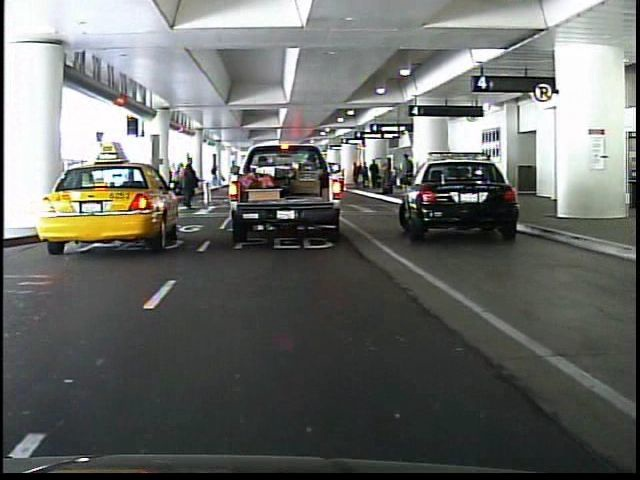person: (176, 153, 199, 212), (252, 146, 275, 202)
